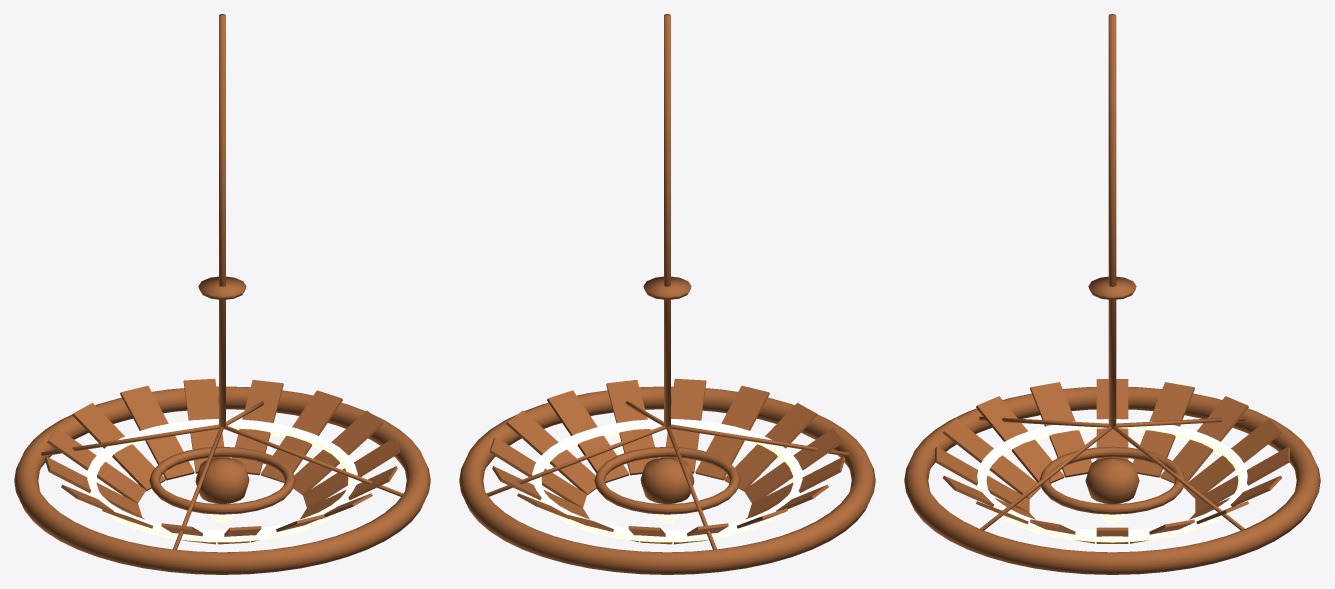
Rendered from chandelier_turbine.glb.
3 renders of one model, left to right at view 1: azimuth 30°, elevation 25°; view 2: azimuth 150°, elevation 25°; view 3: azimuth 270°, elevation 25°, orthographic.
Parts seen in each view (by area): view 1: chandelier_turbine metal, chandelier_turbine lamp; view 2: chandelier_turbine metal, chandelier_turbine lamp; view 3: chandelier_turbine metal, chandelier_turbine lamp.
Part boxes in pixels (<box>): chandelier_turbine metal: <box>14,14,430,574</box>; chandelier_turbine lamp: <box>85,419,360,542</box>; chandelier_turbine metal: <box>459,14,875,574</box>; chandelier_turbine lamp: <box>529,419,804,542</box>; chandelier_turbine metal: <box>904,14,1320,574</box>; chandelier_turbine lamp: <box>975,419,1249,542</box>.
Bounding box in the file's own units: 5.52 × 7.41 × 5.52.
